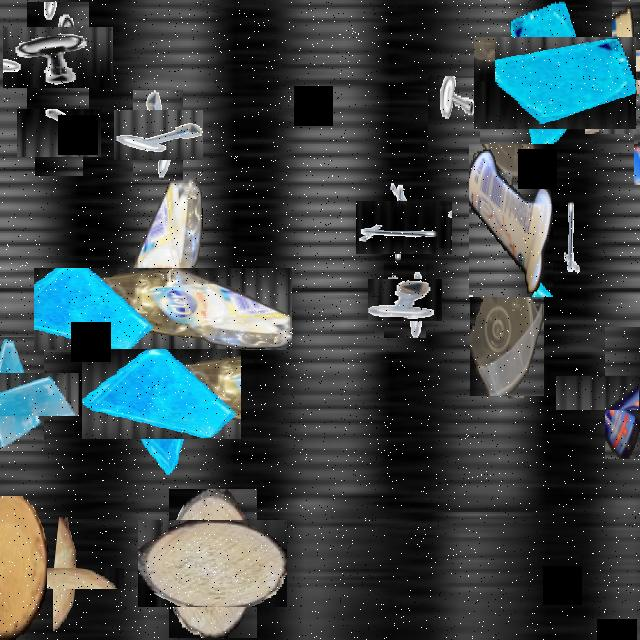glass: (491, 20, 619, 147), (99, 332, 224, 457), (0, 355, 61, 434)
metal: (15, 14, 101, 100), (366, 190, 442, 265), (123, 100, 193, 170), (428, 76, 480, 169), (541, 188, 591, 278), (26, 100, 92, 167), (376, 271, 434, 330)
plastic: (78, 224, 248, 395), (469, 144, 553, 297), (470, 240, 544, 396), (580, 351, 640, 434), (588, 25, 640, 102)
wood: (154, 504, 272, 623), (0, 496, 47, 638), (29, 542, 100, 614), (609, 104, 640, 158)
